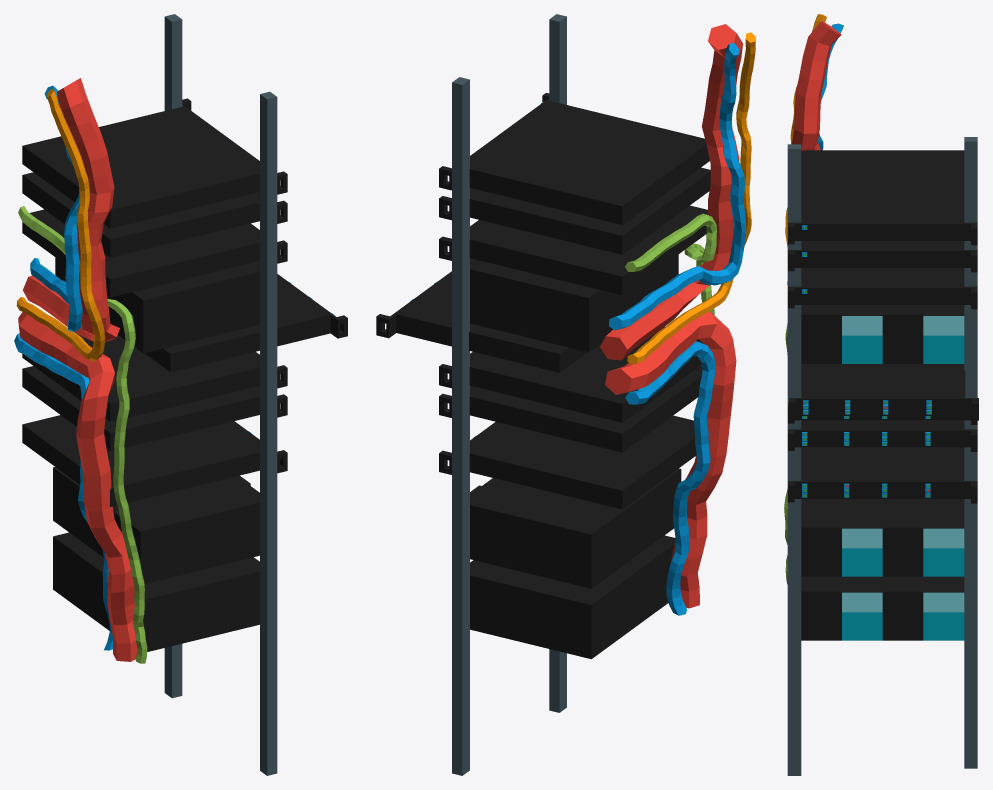
File: Server.fbx
3 views of the same model, side by side, from view 1: azimuth 30°, elevation 25°; view 2: azimuth 150°, elevation 25°; view 3: azimuth 270°, elevation 25° (orthographic). The views are drawn at different scales.
Parts seen in each view (by area): view 1: group_59001017, mesh_171312630, mesh_1977365624, mesh_1535037219, group_1623232616, group_355400717, mesh_1044108958, group_177128128, group_1083793123, group_90174590, group_1145687109, group_1832057760 (+6 smaller); view 2: group_59001017, mesh_171312630, mesh_1535037219, group_1623232616, mesh_1821690257, mesh_1044108958, group_177128128, group_355400717, group_1083793123, group_1145687109, group_1832057760, group_90174590 (+6 smaller); view 3: group_59001017, mesh_171312630, mesh_1535037219, mesh_1044108958, group_1623232616, group_719887857, mesh_1977365624, mesh_1821690257, group_177128128, group_1832057760, group_1145687109, group_90174590 (+1 smaller).
Part boxes in pixels (box(x1,y1,x2,y2)): group_59001017: box(22, 98, 287, 228); mesh_171312630: box(53, 467, 259, 583); mesh_1977365624: box(260, 91, 277, 775); mesh_1535037219: box(53, 532, 259, 651); group_1623232616: box(22, 415, 287, 506); group_355400717: box(18, 312, 137, 661); mesh_1044108958: box(55, 257, 259, 353); group_177128128: box(22, 209, 287, 297); group_1083793123: box(22, 332, 287, 421); group_90174590: box(22, 78, 119, 341); group_1145687109: box(22, 172, 287, 257); group_1832057760: box(22, 366, 287, 451); group_59001017: box(439, 93, 709, 224); mesh_171312630: box(470, 468, 681, 588); mesh_1535037219: box(470, 535, 675, 659); group_1623232616: box(439, 415, 696, 509); mesh_1821690257: box(452, 77, 469, 775); mesh_1044108958: box(470, 254, 678, 352); group_177128128: box(439, 205, 708, 295); group_355400717: box(605, 312, 736, 608); group_1083793123: box(439, 327, 703, 422); group_1145687109: box(439, 167, 710, 254); group_1832057760: box(439, 365, 702, 452); group_90174590: box(600, 24, 742, 360); group_59001017: box(788, 150, 977, 245); mesh_171312630: box(801, 499, 964, 576); mesh_1535037219: box(801, 576, 964, 640); mesh_1044108958: box(801, 305, 964, 363); group_1623232616: box(788, 447, 977, 503); group_719887857: box(789, 364, 978, 420); mesh_1977365624: box(787, 144, 801, 775); mesh_1821690257: box(964, 137, 977, 768); group_177128128: box(788, 268, 977, 309); group_1832057760: box(788, 420, 977, 451); group_1145687109: box(788, 241, 977, 272); group_90174590: box(792, 21, 841, 150).
Bounding box in the file's own units: 113 × 273 × 71.77.
